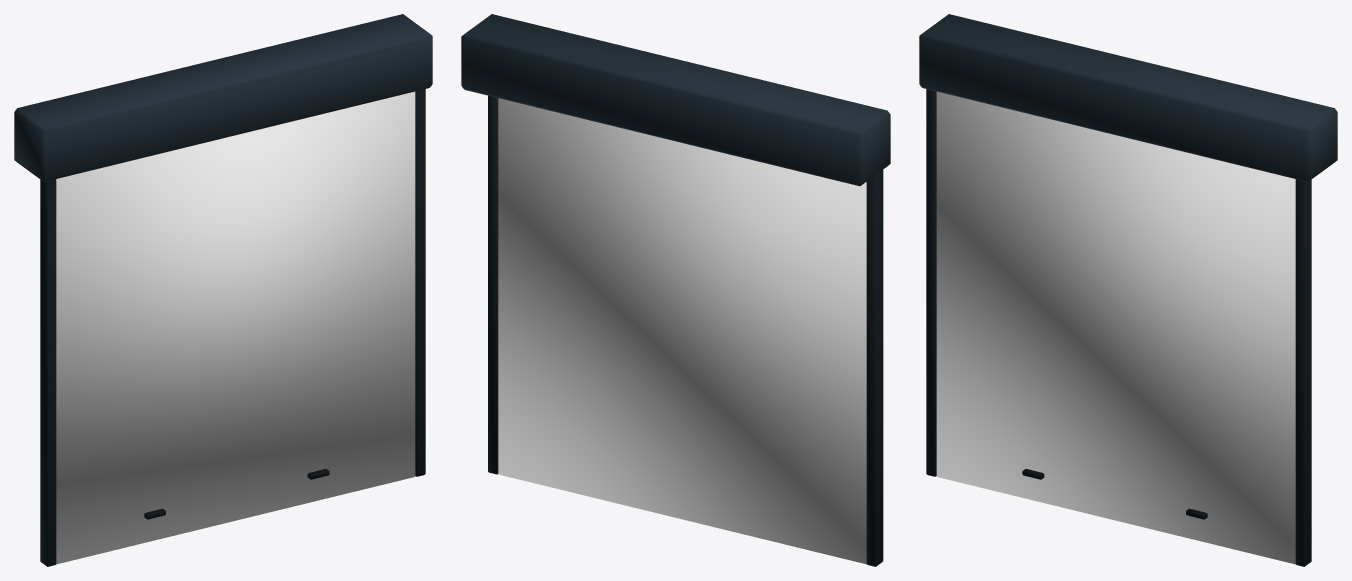
File: persiana_cerrada.glb
3 renders of one model, left to right at view 1: azimuth 30°, elevation 25°; view 2: azimuth 150°, elevation 25°; view 3: azimuth 330°, elevation 25°, orthographic. The views are drawn at different scales.
Parts seen in each view (by area): view 1: persiana_cerrada-colcaja, persiana; view 2: persiana_cerrada-colcaja, persiana; view 3: persiana_cerrada-colcaja, persiana.
Part boxes in pixels (left/top/right/bottom): persiana_cerrada-colcaja: left=56, top=91, right=415, bottom=564; persiana: left=14, top=14, right=432, bottom=566; persiana_cerrada-colcaja: left=498, top=98, right=866, bottom=564; persiana: left=461, top=14, right=890, bottom=566; persiana_cerrada-colcaja: left=936, top=91, right=1295, bottom=564; persiana: left=919, top=14, right=1337, bottom=566.
Size of the model in its own units: 2.4 by 2.58 by 0.32.
